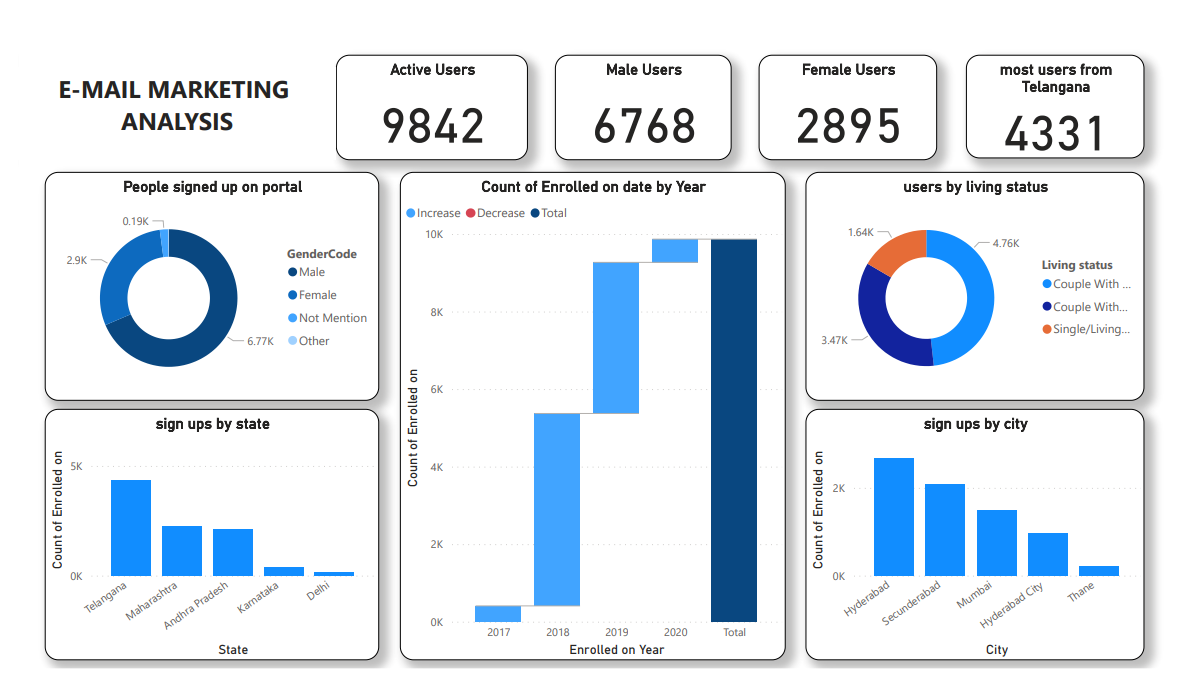

The dashboard page shown, as its layout file describes it:
{"tool":"powerbi","page":{"name":"Page 14","canvas":[1280,720],"ordinal":6},"visuals":[{"type":"card","title":"Active Users","fields":{"Values":["CountNonNull(Email Marketing Analysis xlsx - TBL_CustomerProfileData.Status)"]},"box":[352.1,39.1,212.7,117.4],"z":0},{"type":"card","title":"Male Users","fields":{"Values":["CountNonNull(Email Marketing Analysis xlsx - TBL_CustomerProfileData.Status)"]},"box":[595.3,39.1,195.6,117.4],"z":1000},{"type":"card","title":"Female Users","fields":{"Values":["CountNonNull(Email Marketing Analysis xlsx - TBL_CustomerProfileData.Status)"]},"box":[821.5,39.1,198,117.4],"z":2000},{"type":"card","title":"most users from Telangana","fields":{"Values":["CountNonNull(Email Marketing Analysis xlsx - TBL_CustomerProfileData.State)"]},"box":[1051.3,39.1,198,114.9],"z":3000},{"type":"textbox","box":[0,52.6,352.1,103.9],"z":4000},{"type":"donutChart","title":"People signed up on portal","fields":{"Category":["Email Marketing Analysis xlsx - TBL_CustomerProfileData.GenderCode"],"Y":["CountNonNull(Email Marketing Analysis xlsx - TBL_CustomerProfileData.GenderCode)"]},"box":[29.3,168.7,370.4,254.3],"z":5000},{"type":"donutChart","title":"users by living status","fields":{"Category":["Email Marketing Analysis xlsx - TBL_CustomerProfileData.Living status"],"Y":["CountNonNull(Email Marketing Analysis xlsx - TBL_CustomerProfileData.Living status)"]},"box":[872.8,168.7,376.5,254.3],"z":6000},{"type":"columnChart","title":"sign ups by state","fields":{"Category":["Email Marketing Analysis xlsx - TBL_CustomerProfileData.State"],"Y":["CountNonNull(Email Marketing Analysis xlsx - TBL_CustomerProfileData.Enrolled on )"]},"box":[29.3,431.5,370.4,279.9],"z":7000},{"type":"columnChart","title":"sign ups by city","fields":{"Category":["Email Marketing Analysis xlsx - TBL_CustomerProfileData.City"],"Y":["CountNonNull(Email Marketing Analysis xlsx - TBL_CustomerProfileData.Enrolled on )"]},"box":[872.8,431.5,376.5,279.9],"z":8000},{"type":"waterfallChart","title":"Count of Enrolled on date by Year","fields":{"Category":["Email Marketing Analysis xlsx - TBL_CustomerProfileData.Enrolled on .Variation.Date Hierarchy.Year","Email Marketing Analysis xlsx - TBL_CustomerProfileData.Enrolled on .Variation.Date Hierarchy.Quarter","Email Marketing Analysis xlsx - TBL_CustomerProfileData.Enrolled on .Variation.Date Hierarchy.Month","Email Marketing Analysis xlsx - TBL_CustomerProfileData.Enrolled on .Variation.Date Hierarchy.Day"],"Y":["CountNonNull(Email Marketing Analysis xlsx - TBL_CustomerProfileData.Enrolled on )"]},"box":[423,168.7,427.8,542.8],"z":9000}]}

Visuals, with their boxes in screenshot pixels (x1, y1, x2, y2), scaled from the page's 1280x720 canvas onto the 1190x688 screenshot:
"Active Users" card: left=327, top=37, right=525, bottom=150
"Male Users" card: left=553, top=37, right=735, bottom=150
"Female Users" card: left=764, top=37, right=948, bottom=150
"most users from Telangana" card: left=977, top=37, right=1161, bottom=147
textbox: left=0, top=50, right=327, bottom=150
"People signed up on portal" donutChart: left=27, top=161, right=372, bottom=404
"users by living status" donutChart: left=811, top=161, right=1161, bottom=404
"sign ups by state" columnChart: left=27, top=412, right=372, bottom=680
"sign ups by city" columnChart: left=811, top=412, right=1161, bottom=680
"Count of Enrolled on date by Year" waterfallChart: left=393, top=161, right=791, bottom=680
